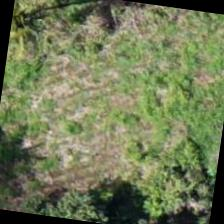Kelapa_Sawit: (6, 0, 70, 70)
